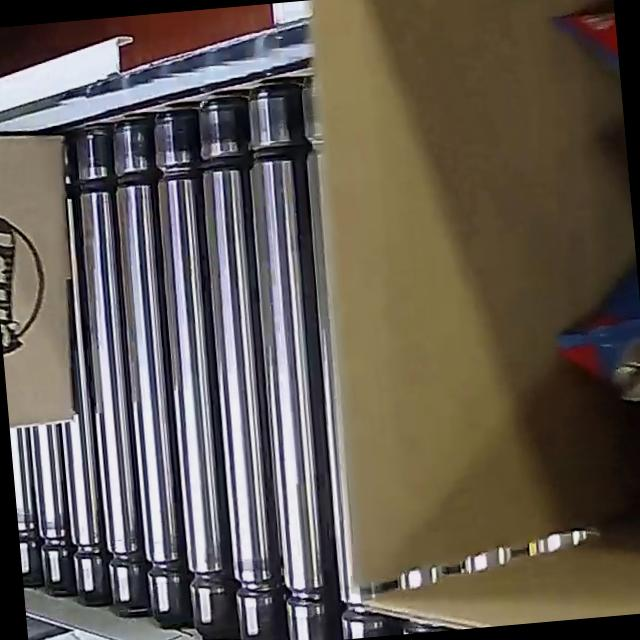paprika: (506, 0, 640, 540)
